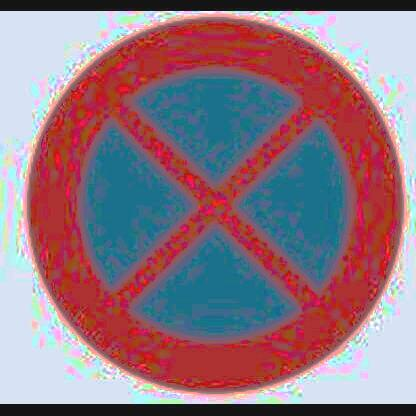No stopping: (26, 19, 404, 395)
